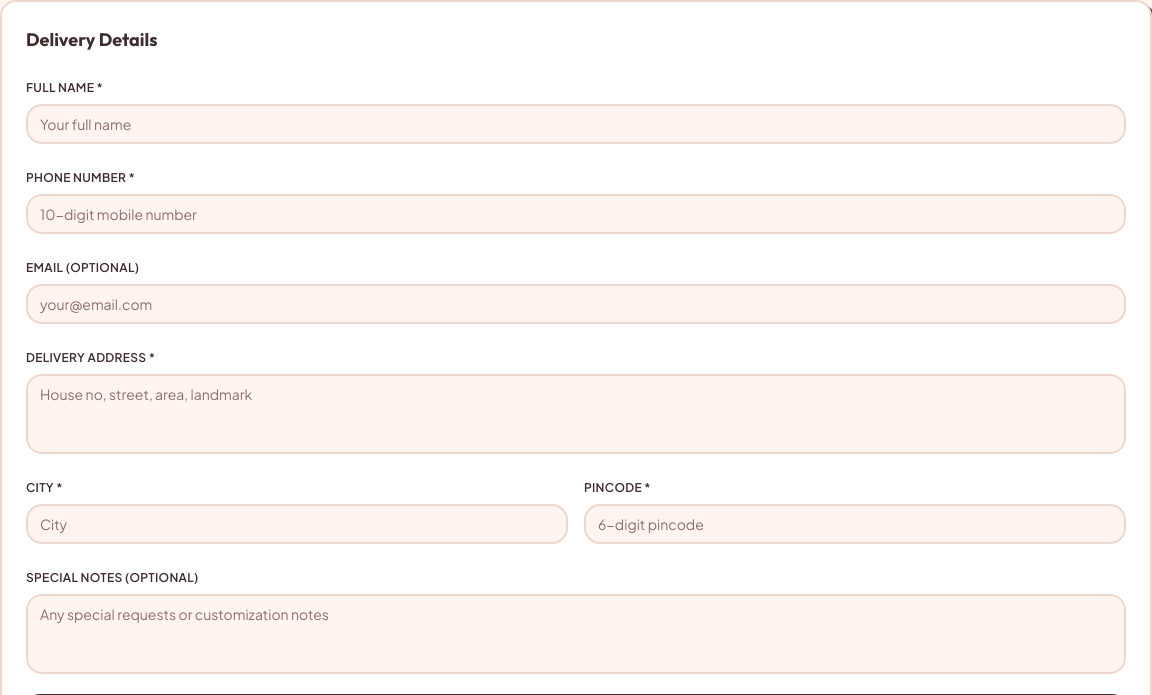
Test case: OrderForm › shows validation error for invalid phone
Type "12345" into the field labelled "Phone Number *" at (576, 214), box [26,194,1126,234]
(page scrolled)
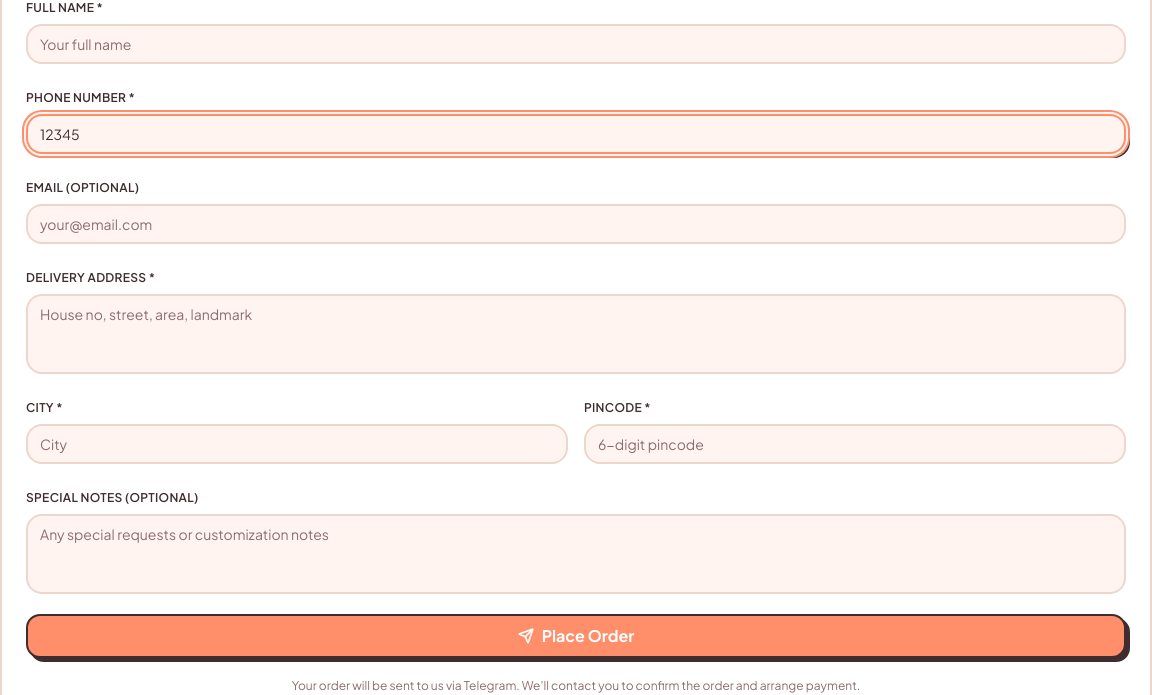
Click the button "Place Order" at (576, 636), box [26,614,1126,658]
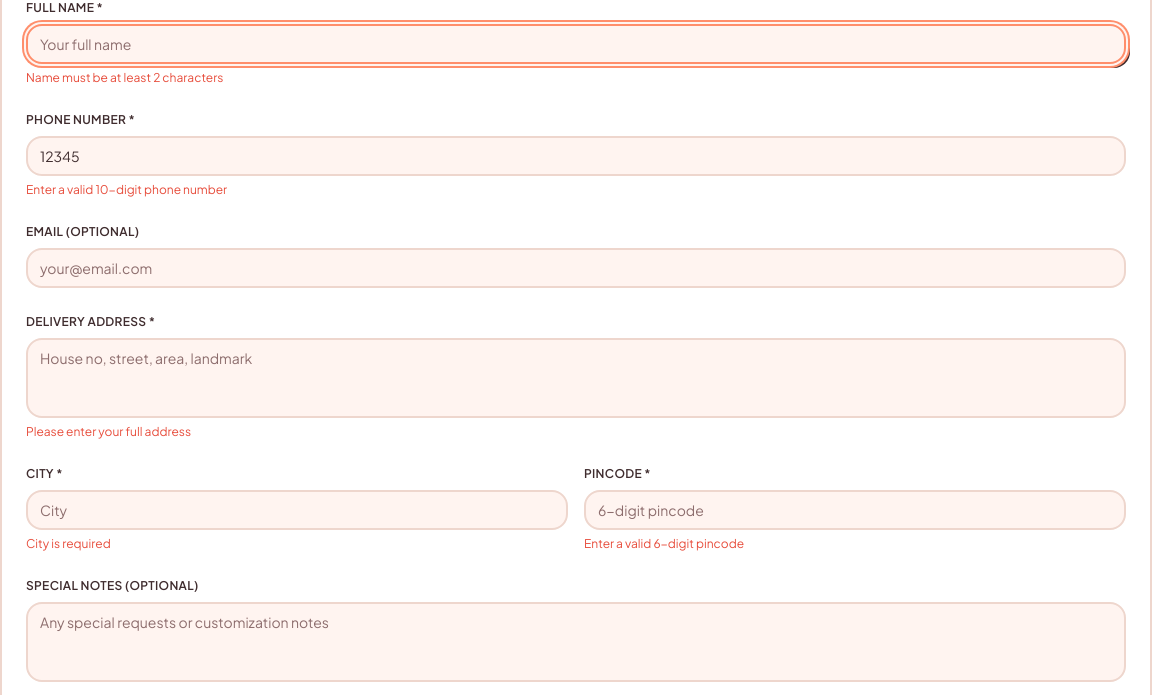
Now the text "Enter a valid 10-digit phone number" is shown, box [26,182,227,197]
